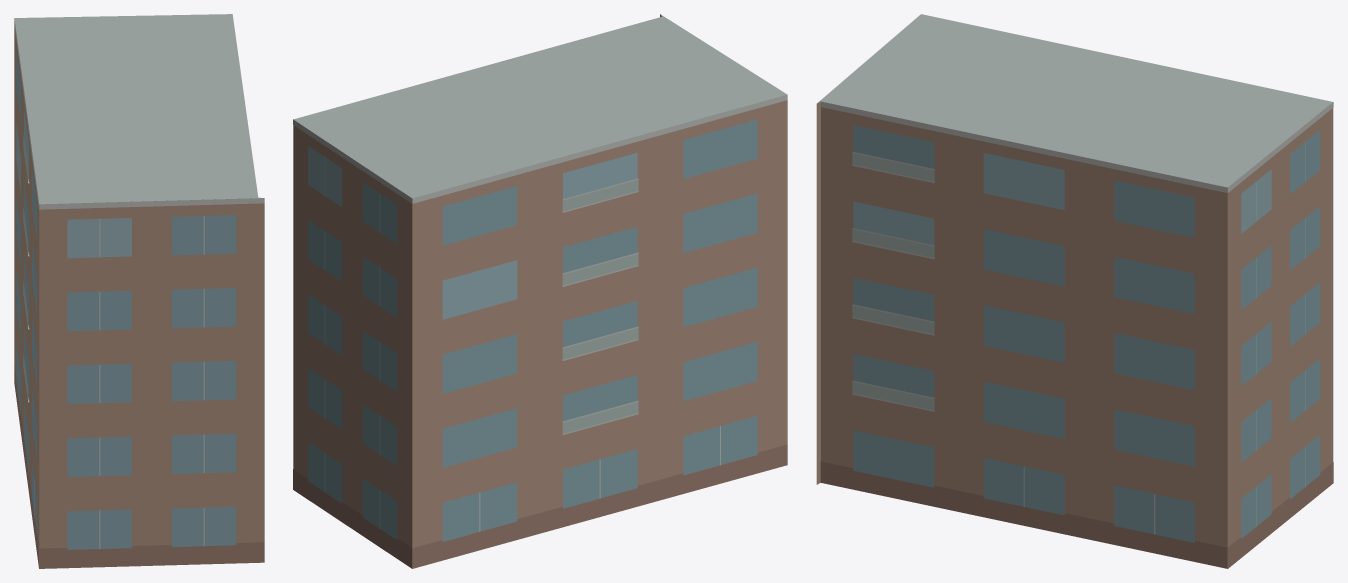
Rendered from survey-upis-32989967.glb.
3 renders of one model, left to right at view 1: azimuth 30°, elevation 25°; view 2: azimuth 150°, elevation 25°; view 3: azimuth 270°, elevation 25°, orthographic. The views are drawn at different scales.
Visible parts, largest first — view 1: survey-upis-32989967.tmp; view 2: survey-upis-32989967.tmp; view 3: survey-upis-32989967.tmp.
Part boxes in pixels (x1,y1,x2,y2): survey-upis-32989967.tmp: [14, 14, 264, 568]; survey-upis-32989967.tmp: [293, 14, 787, 568]; survey-upis-32989967.tmp: [816, 14, 1333, 568].
Bounding box in the file's own units: 16.31 × 16.7 × 20.52.
